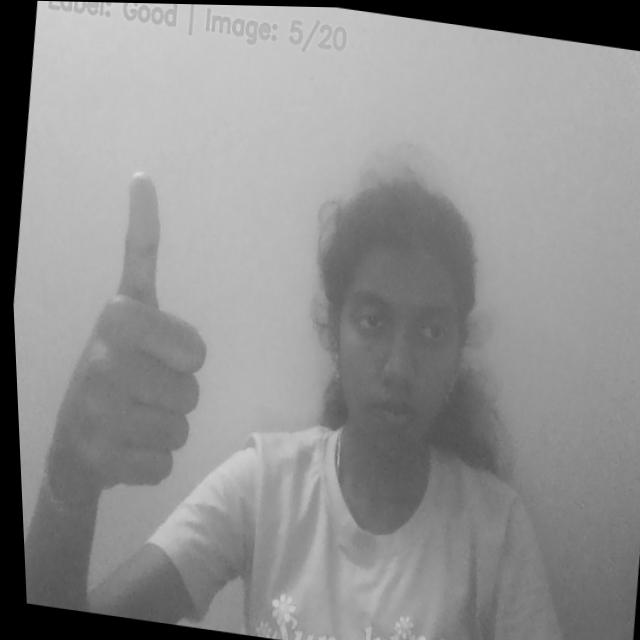Good: (27, 153, 234, 509)
